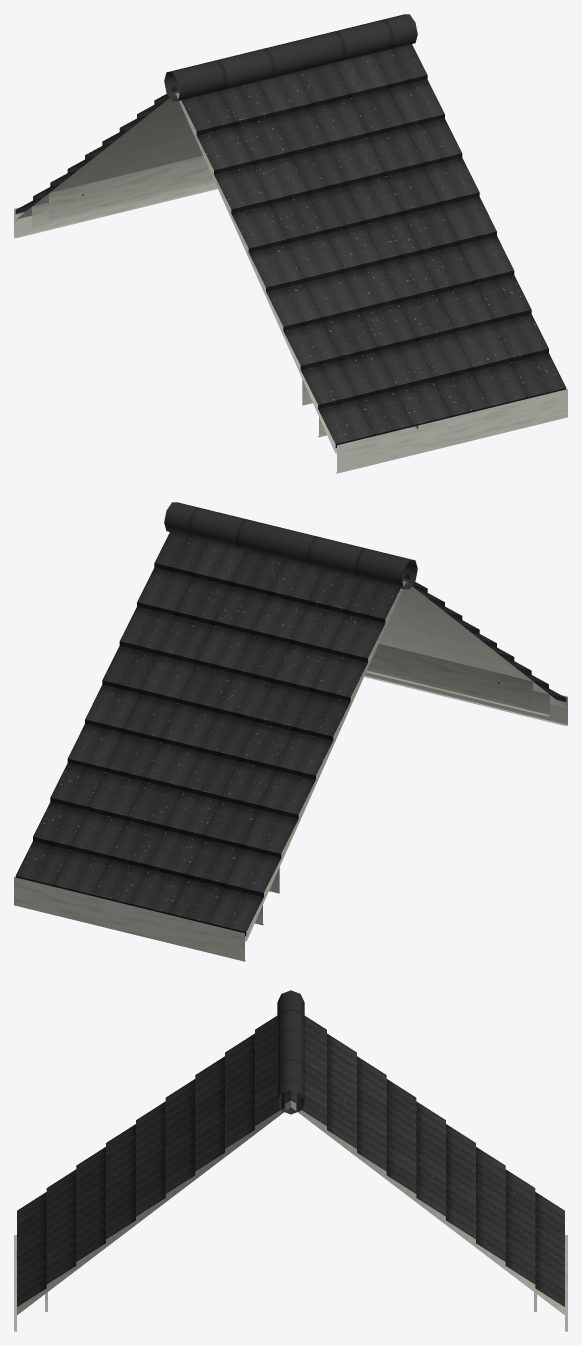
Rendered from red-wooden-house-roof-section.glb.
3 views of the same model, one above another, from view 1: azimuth 30°, elevation 25°; view 2: azimuth 150°, elevation 25°; view 3: azimuth 270°, elevation 25° (orthographic). The views are drawn at different scales.
Visible parts, largest first — view 1: roof; view 2: roof; view 3: roof.
Part boxes in pixels (x1,y1,x2,y2): roof: [14, 14, 567, 473]; roof: [14, 502, 567, 961]; roof: [14, 990, 567, 1331].
Size of the model in its own units: 2.06 by 2.35 by 4.85.
1 material, 1 textured.
